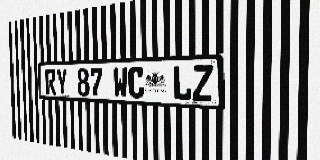7: (89, 68, 103, 97)
8: (77, 68, 90, 96)
C: (128, 67, 144, 99)
L: (173, 65, 192, 101)
R: (45, 69, 56, 95)
W: (113, 67, 128, 98)
Y: (56, 69, 68, 95)
Z: (192, 65, 213, 102)
